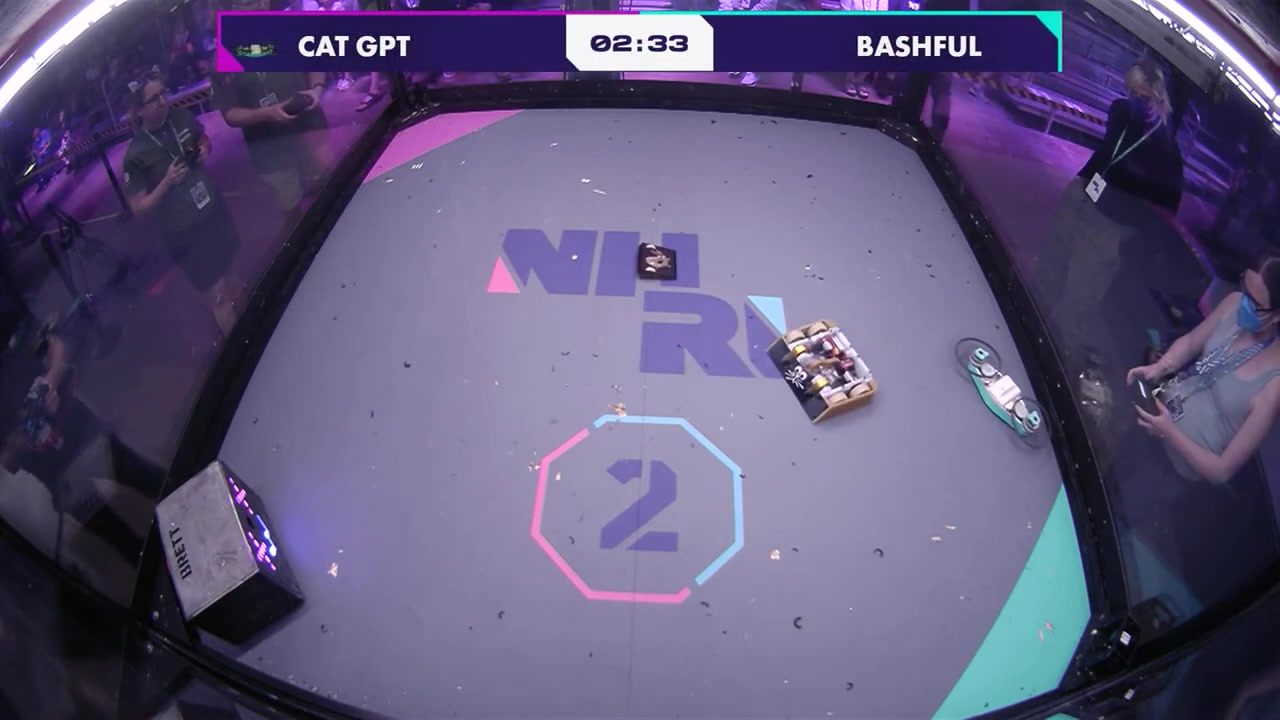combatbot: (767, 318, 877, 426), (964, 356, 1038, 441)
housebot: (155, 459, 304, 646)
minibot: (637, 244, 677, 281)
